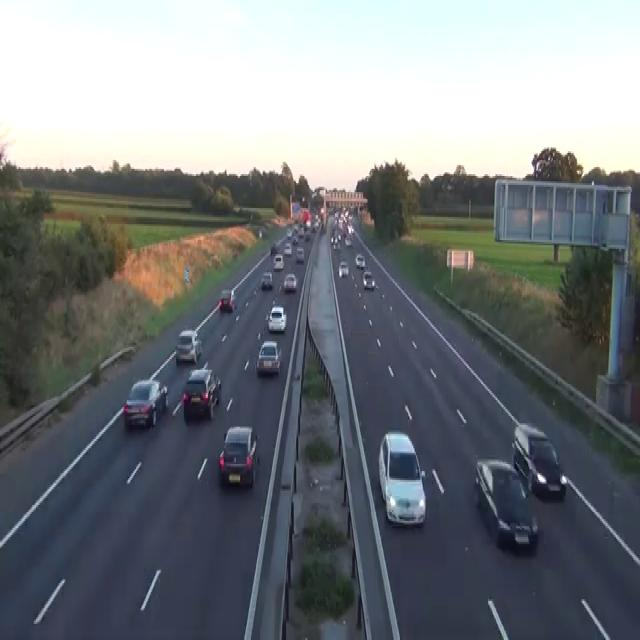Car: (474, 457, 538, 547), (378, 430, 426, 526), (511, 422, 567, 499), (218, 425, 259, 487), (123, 377, 168, 428), (182, 368, 221, 420), (175, 329, 202, 363), (256, 340, 281, 375), (267, 304, 286, 332), (218, 288, 236, 311), (283, 272, 297, 292), (260, 270, 272, 290), (362, 270, 374, 290), (273, 252, 284, 270), (338, 260, 348, 278), (355, 252, 365, 268), (296, 247, 304, 261), (284, 242, 292, 256), (270, 242, 277, 254), (297, 224, 304, 236), (347, 224, 354, 235), (333, 238, 340, 249), (344, 237, 352, 246), (304, 219, 311, 229), (312, 221, 319, 231), (233, 204, 240, 213), (286, 228, 292, 238), (304, 231, 310, 240), (292, 234, 298, 243), (258, 228, 262, 238), (330, 234, 334, 243)
